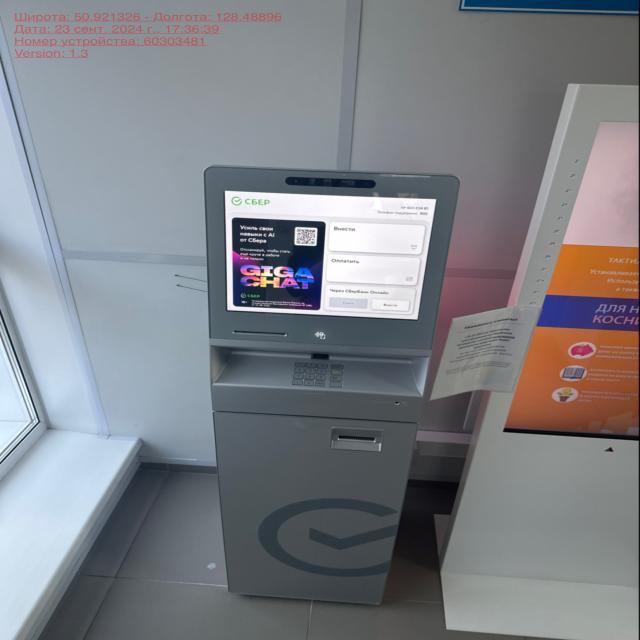bank: (202, 166, 455, 599)
